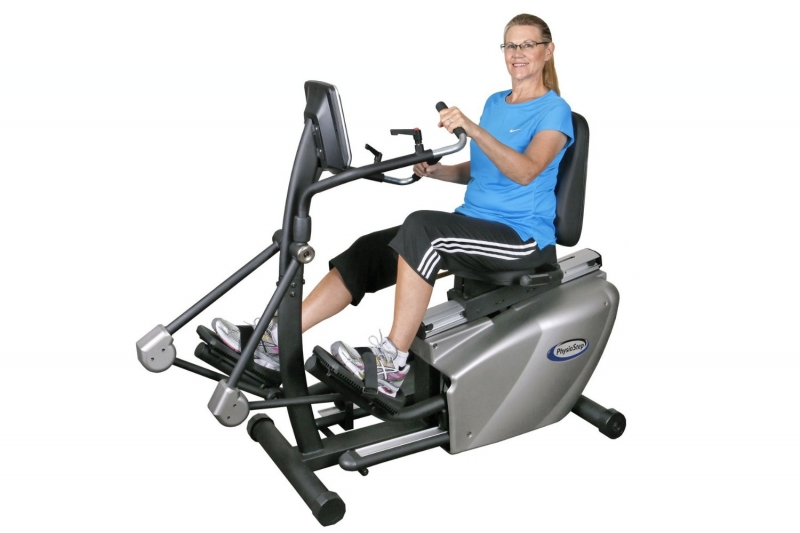gym_bike: (157, 70, 631, 514)
